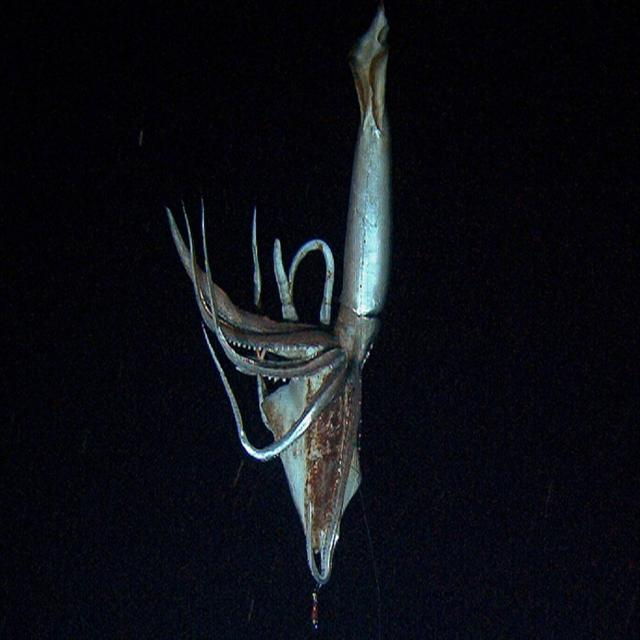SQUID: (141, 0, 424, 640)
